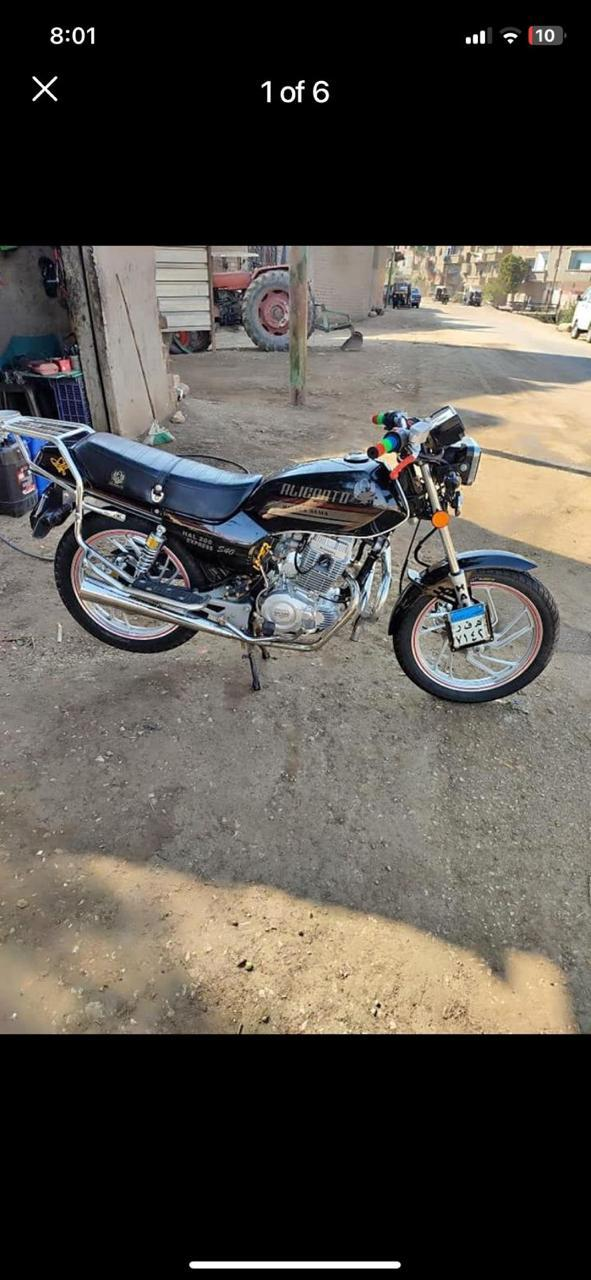License Plate: (448, 603, 493, 651)
